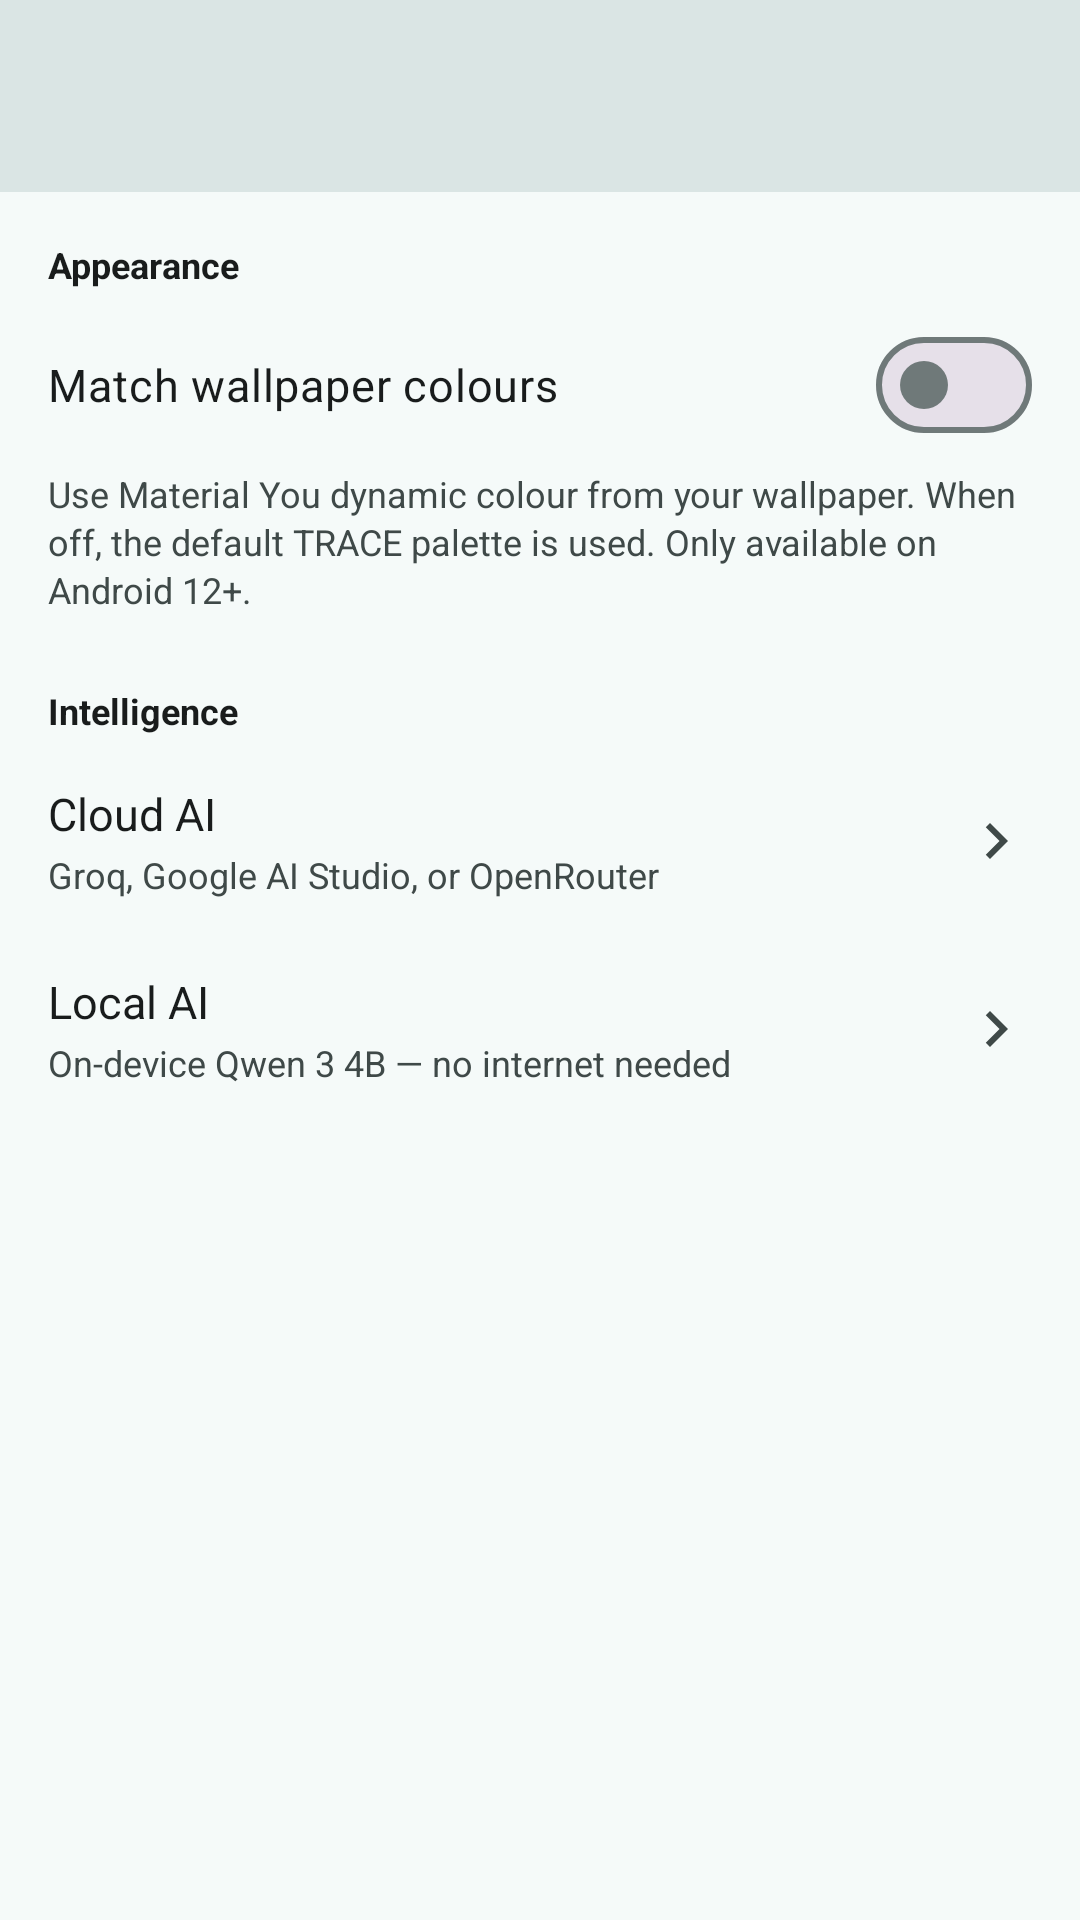

Screen size 1080px×1920px. Icon name, then its box in pixels as [x1=x1, y1=y1, x2=x2, y2=y2]:
chevron right: [x1=986, y1=823, x2=1008, y2=859], [x1=986, y1=1011, x2=1008, y2=1047]
